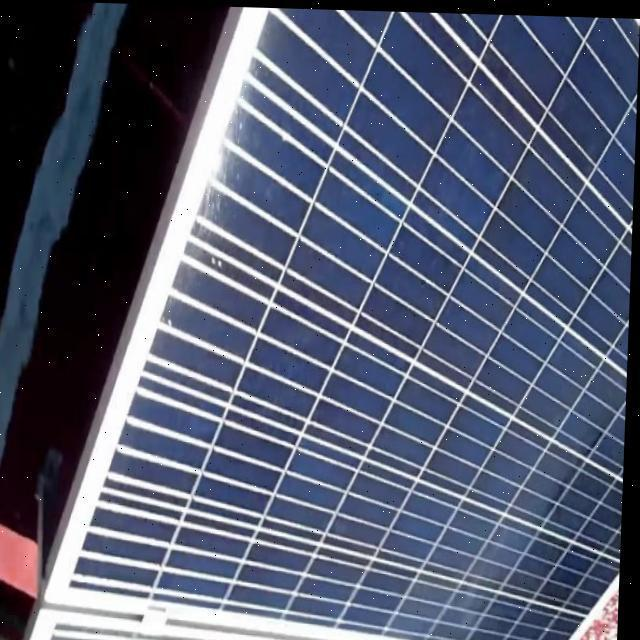Normal Solar Panel: (75, 2, 640, 640)
